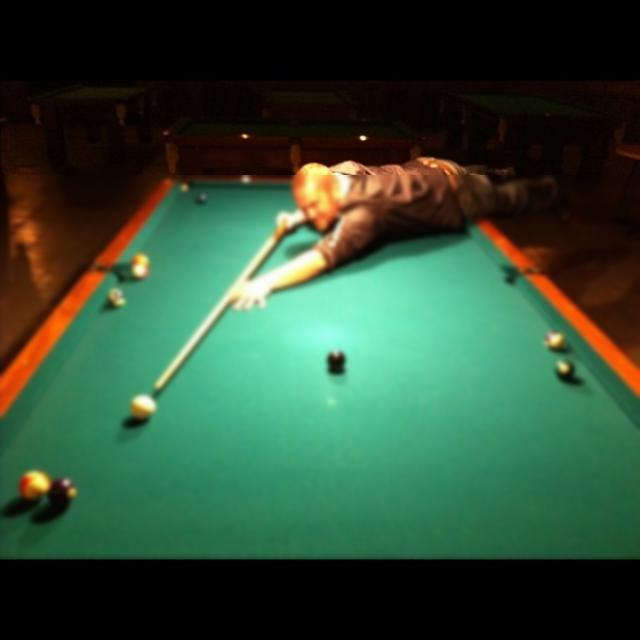Ball: (46, 478, 78, 506), (18, 471, 48, 500), (133, 398, 156, 420), (326, 352, 346, 374), (556, 362, 578, 382), (108, 288, 125, 310), (545, 334, 565, 352), (130, 264, 148, 280), (134, 256, 149, 264), (198, 196, 205, 206)
Billiard table: (0, 176, 640, 560)
